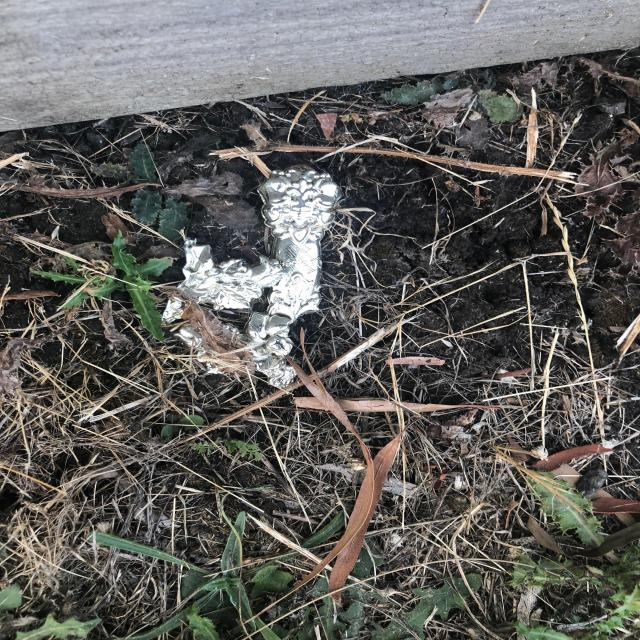litter: (161, 169, 341, 382)
